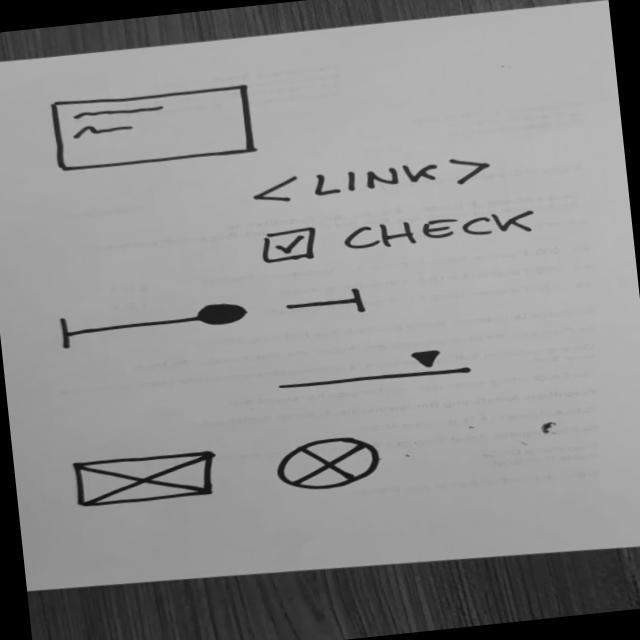checkbox: (254, 202, 540, 269)
image: (67, 446, 226, 513), (272, 432, 387, 496)
link: (245, 150, 498, 212)
select: (272, 343, 476, 398)
slider: (50, 285, 375, 354)
textarea: (47, 80, 264, 177)
